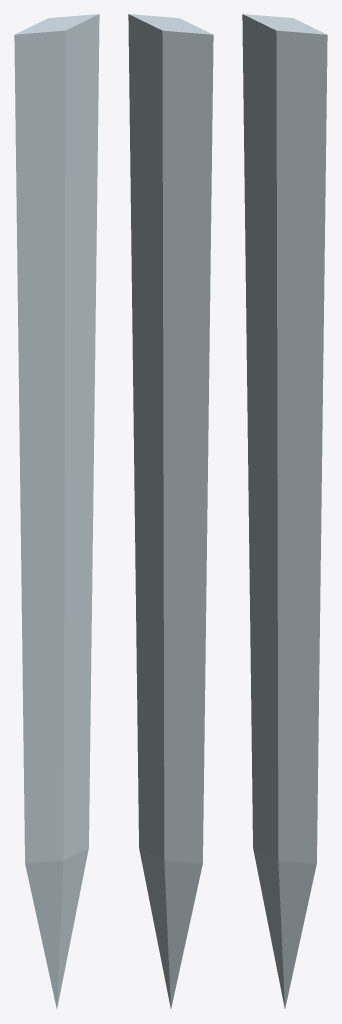
Rendered from Training_Sword_Blade.glb.
3 views of the same model, side by side, from view 1: azimuth 30°, elevation 25°; view 2: azimuth 150°, elevation 25°; view 3: azimuth 330°, elevation 25° (orthographic).
Parts seen in each view (by area): view 1: Training_Sword_Blade; view 2: Training_Sword_Blade; view 3: Training_Sword_Blade.
Boxes of the visible parts, x1,y1,x2,y2 form: Training_Sword_Blade: (14, 14, 99, 1008); Training_Sword_Blade: (128, 14, 213, 1008); Training_Sword_Blade: (242, 14, 327, 1008).
Bounding box in the file's own units: 0.104 × 1.15 × 0.036.
